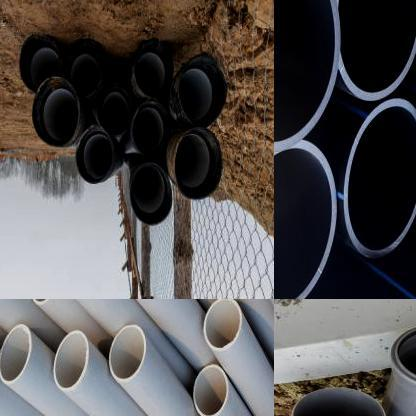pipe: (338, 92, 416, 261), (274, 0, 342, 157), (274, 136, 338, 299), (337, 0, 416, 101), (179, 54, 227, 128), (176, 128, 223, 200), (32, 76, 79, 148), (292, 387, 387, 416), (130, 162, 172, 226), (134, 40, 174, 98), (19, 35, 60, 91), (76, 124, 113, 184), (132, 100, 170, 158), (53, 330, 89, 390), (108, 324, 146, 380), (203, 299, 243, 352), (66, 40, 102, 98), (0, 324, 32, 384), (192, 364, 228, 416), (97, 83, 132, 136), (392, 323, 416, 387)
